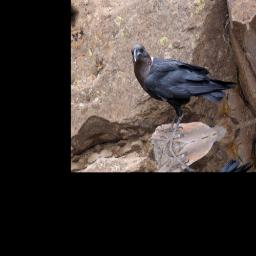Crow: (129, 14, 246, 156)
